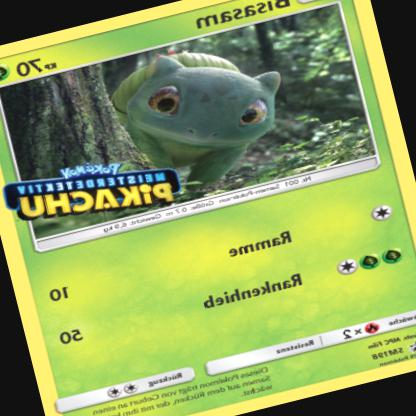Bulbasaur: (102, 26, 299, 181)
